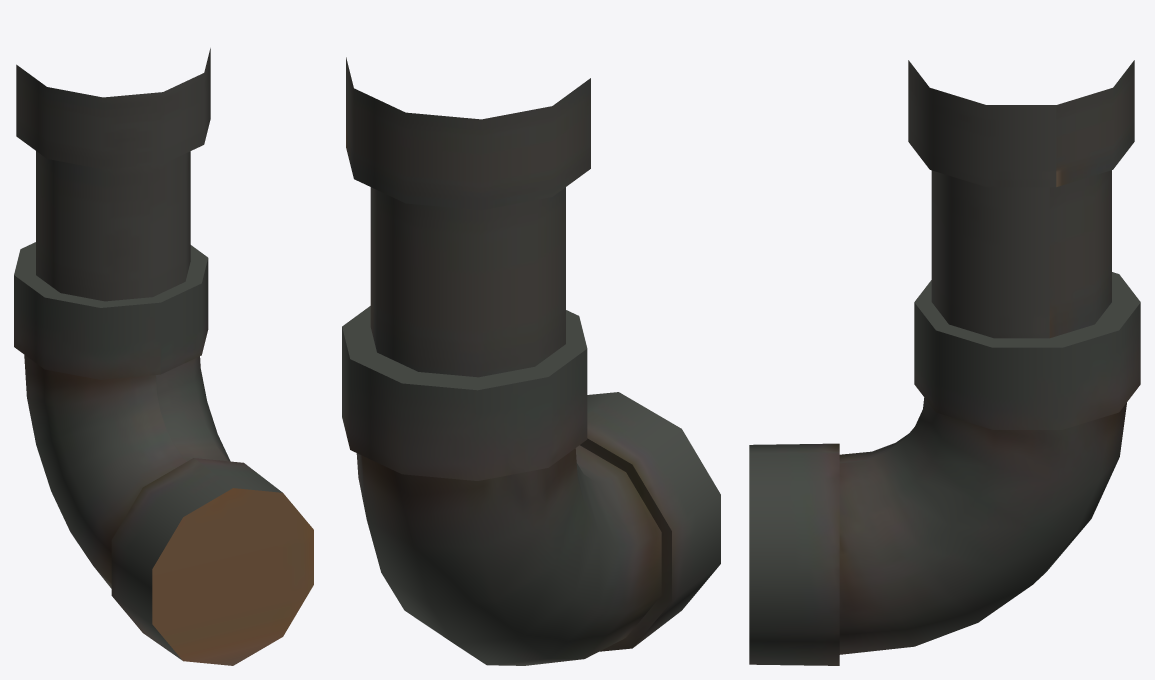
3 renders of one model, left to right at view 1: azimuth 30°, elevation 25°; view 2: azimuth 150°, elevation 25°; view 3: azimuth 270°, elevation 25°, orthographic. The views are drawn at different scales.
Visible parts, largest first — view 1: body0_model0_lod0_mesh0; view 2: body0_model0_lod0_mesh0; view 3: body0_model0_lod0_mesh0.
Boxes of the visible parts, <box> form: body0_model0_lod0_mesh0: <box>14,48,313,665</box>; body0_model0_lod0_mesh0: <box>342,57,720,665</box>; body0_model0_lod0_mesh0: <box>749,60,1140,665</box>.
Size of the model in its own units: 4.76 by 14.56 by 8.64.
Materials: 1 (1 with a texture image).
